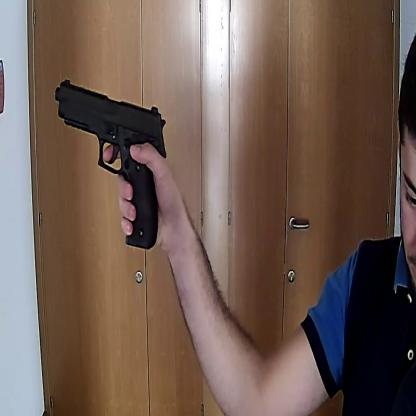gun: (54, 78, 167, 250)
